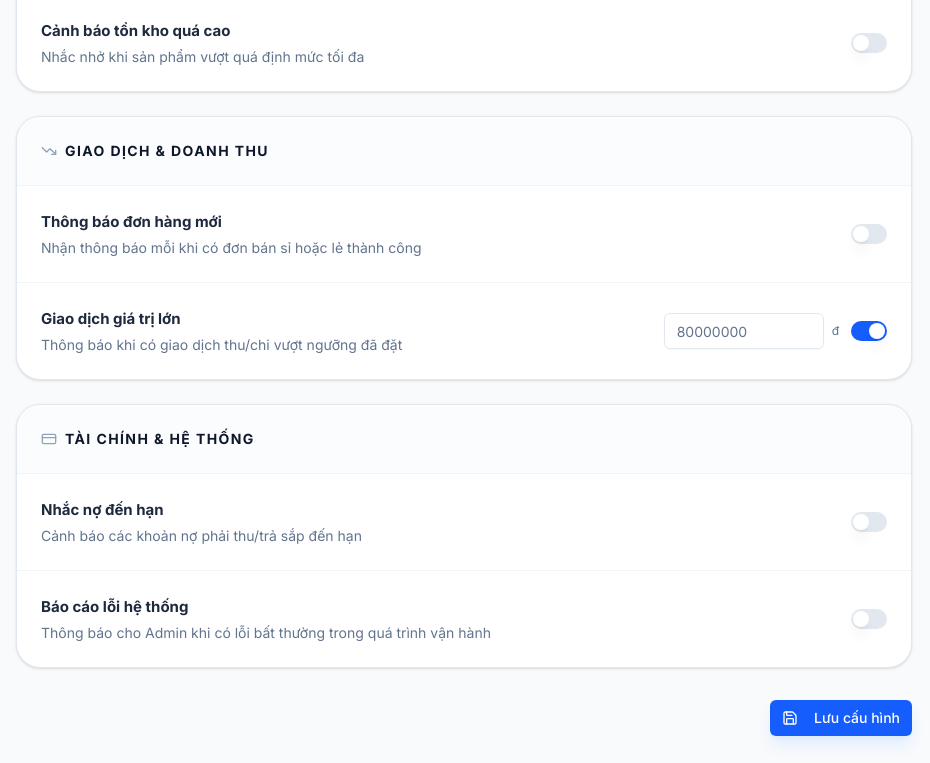
AlertSettingsPage redesign › debtDueDays input hidden when debtDue OFF, visible when toggled ON
The width and height of the screenshot is (930, 763).
(page scrolled)
Check: the text "Nhắc nợ đến hạn" is shown, box [41,500,164,519]
Check: the field showing "3" is not shown
Step 1. Click the switch in the row of "Nhắc nợ đến hạn" → [869, 522], box [851,512,887,532]
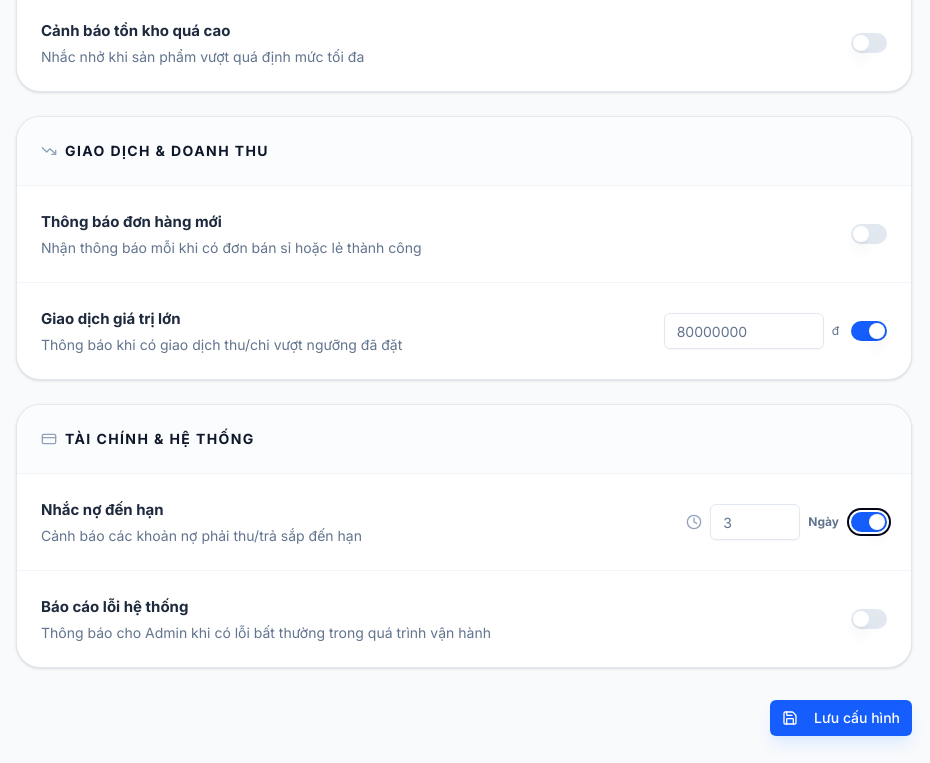
Check: the number field showing "3" next to "Ngày" is shown, box [710,504,800,540]
